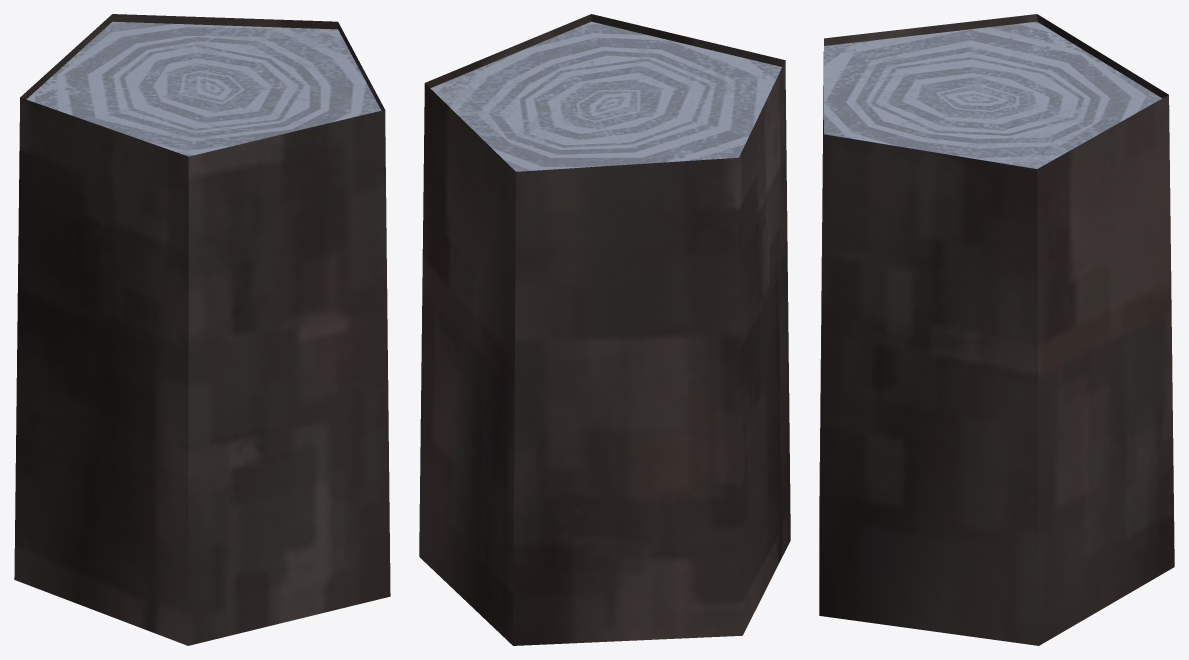
The model's file is souche_tronc_ki_tombe 1.fbx.
The picture shows the model from 3 angles, left to right: view 1: azimuth 30°, elevation 25°; view 2: azimuth 150°, elevation 25°; view 3: azimuth 270°, elevation 25°; orthographic projection.
Parts seen in each view (by area): view 1: polySurface159; view 2: polySurface159; view 3: polySurface159.
Boxes of the visible parts, x1,y1,x2,y2 form: polySurface159: (14, 14, 390, 645); polySurface159: (419, 14, 790, 645); polySurface159: (819, 14, 1174, 645).
Bounding box in the file's own units: 1.37 × 1.95 × 1.3.
1 material, 1 textured.
